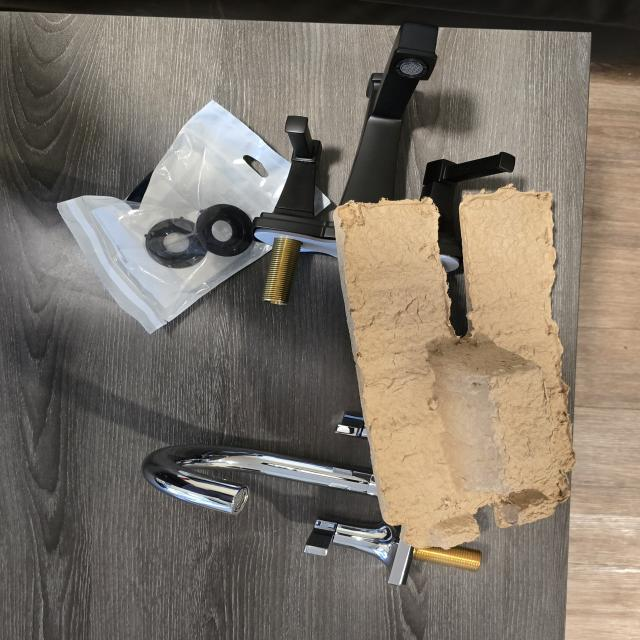10o: (141, 445, 376, 514), (303, 516, 414, 585), (414, 548, 481, 571), (335, 414, 367, 439)
13o: (58, 101, 290, 333), (314, 187, 330, 215)
9o: (340, 22, 438, 204), (253, 116, 337, 304), (421, 152, 515, 274)
